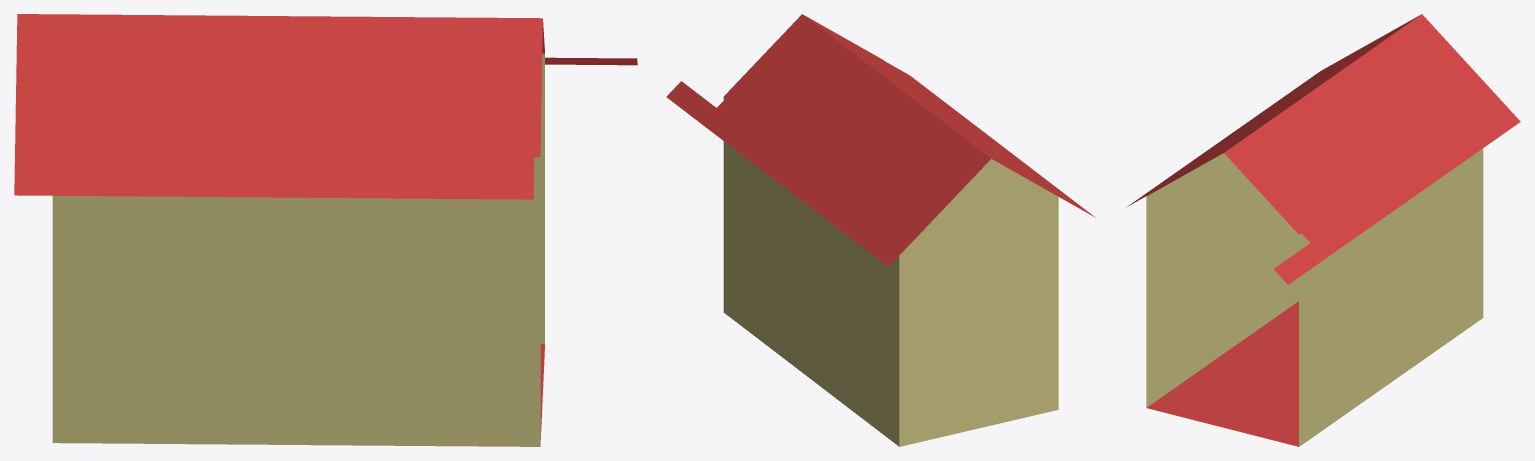
The picture shows the model from 3 angles, left to right: view 1: azimuth 30°, elevation 25°; view 2: azimuth 150°, elevation 25°; view 3: azimuth 270°, elevation 25°; orthographic projection. The views are drawn at different scales.
Size of the model in its own units: 27.66 by 21.61 by 16.56.
